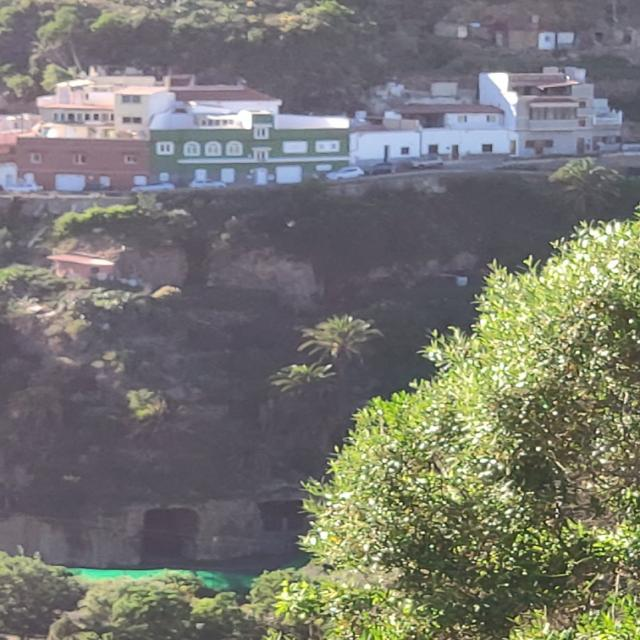Palm-Trees: (297, 314, 379, 391), (550, 154, 624, 223), (268, 362, 340, 412)
